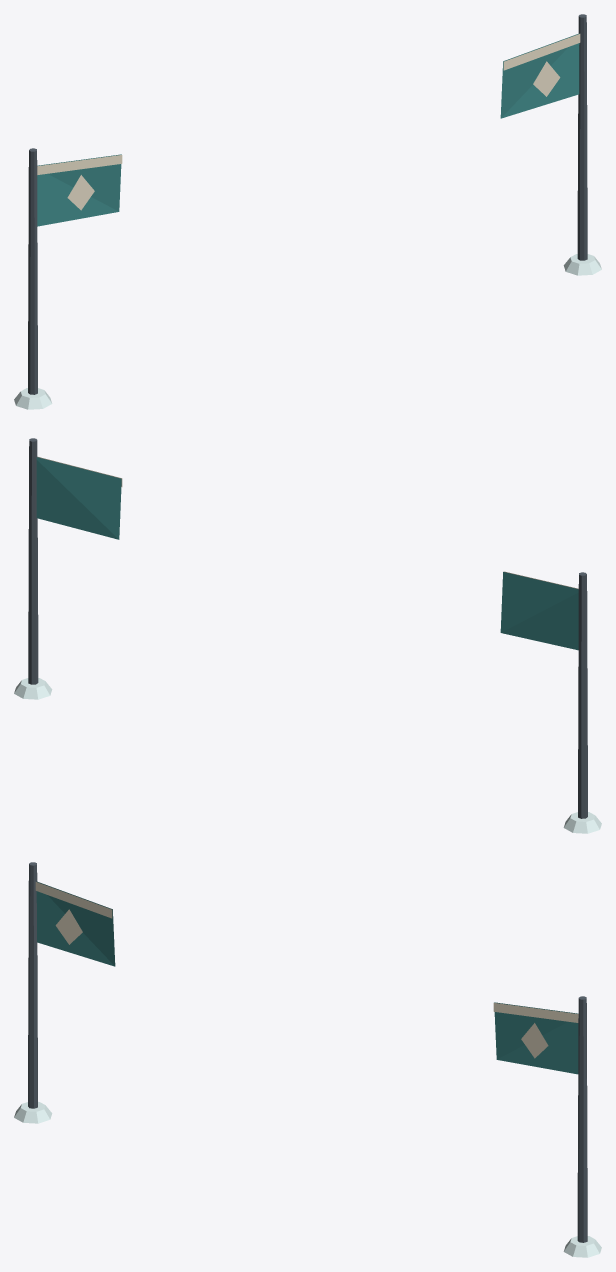
File: gate-teal.glb
The picture shows the model from 3 angles, top to bottom: view 1: azimuth 30°, elevation 25°; view 2: azimuth 150°, elevation 25°; view 3: azimuth 330°, elevation 25°; orthographic projection.
Visible parts, largest first — view 1: gate-teal; view 2: gate-teal; view 3: gate-teal.
Boxes of the visible parts, box(x1,y1,x2,y2) form: gate-teal: box(14, 14, 601, 409); gate-teal: box(14, 438, 601, 833); gate-teal: box(14, 862, 601, 1257).
Size of the model in its own units: 6.8 by 2.8 by 0.4.
